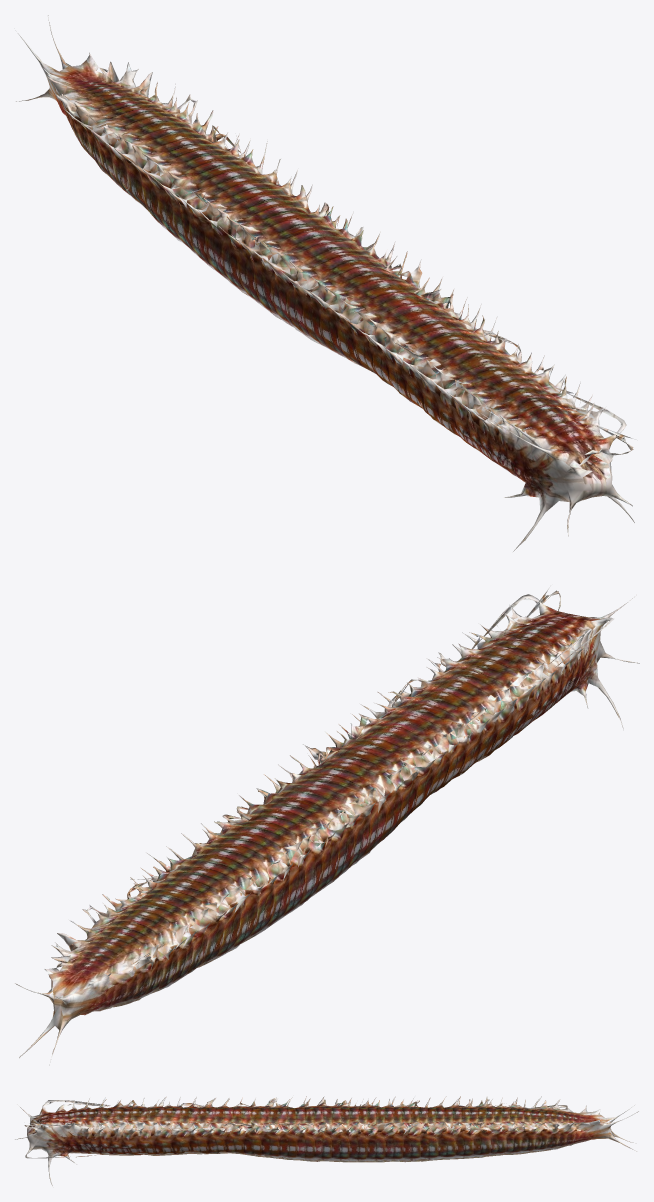
The model's file is fish_ragworm.glb.
3 renders of one model, top to bottom at view 1: azimuth 30°, elevation 25°; view 2: azimuth 150°, elevation 25°; view 3: azimuth 270°, elevation 25°, orthographic. The views are drawn at different scales.
Parts seen in each view (by area): view 1: orient; view 2: orient; view 3: orient.
Part boxes in pixels (x1,y1,x2,y2): orient: (15, 15, 635, 552); orient: (14, 586, 639, 1065); orient: (15, 1095, 638, 1186).
Bounding box in the file's own units: 0.2427 × 0.2287 × 1.98.
Materials: 1 (1 with a texture image).
